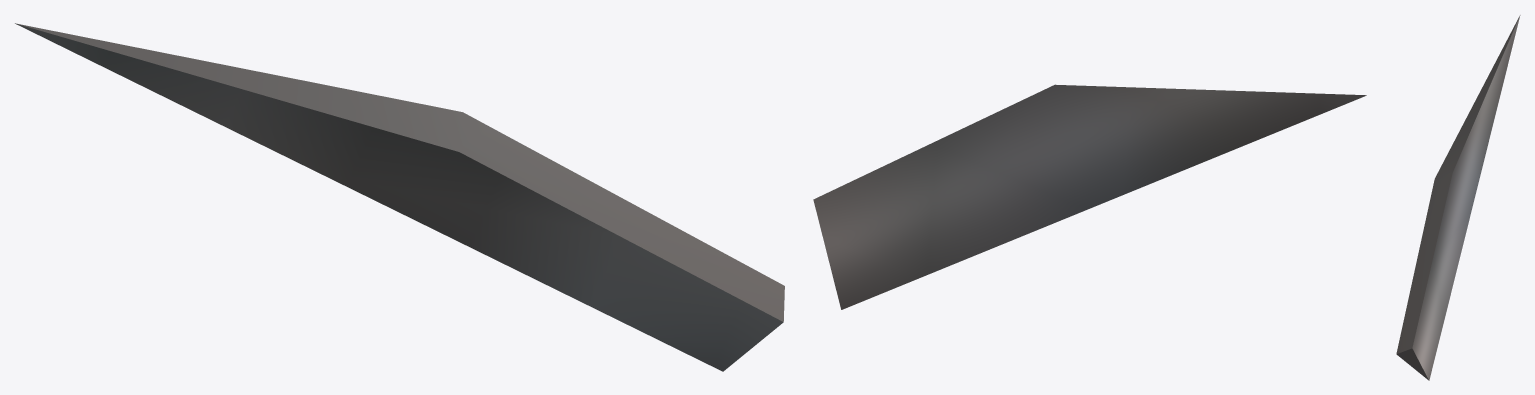
File: Asteroid_Medium_001_02_006_03_005.fbx
The picture shows the model from 3 angles, left to right: view 1: azimuth 30°, elevation 25°; view 2: azimuth 150°, elevation 25°; view 3: azimuth 270°, elevation 25°; orthographic projection. The views are drawn at different scales.
Visible parts, largest first — view 1: Asteroid_Medium_001_02_006_03_005; view 2: Asteroid_Medium_001_02_006_03_005; view 3: Asteroid_Medium_001_02_006_03_005.
Boxes of the visible parts, x1,y1,x2,y2 form: Asteroid_Medium_001_02_006_03_005: (15,23,784,371); Asteroid_Medium_001_02_006_03_005: (813,84,1366,309); Asteroid_Medium_001_02_006_03_005: (1396,15,1520,380).
Size of the model in its own units: 0.265 by 0.1653 by 0.0861.
